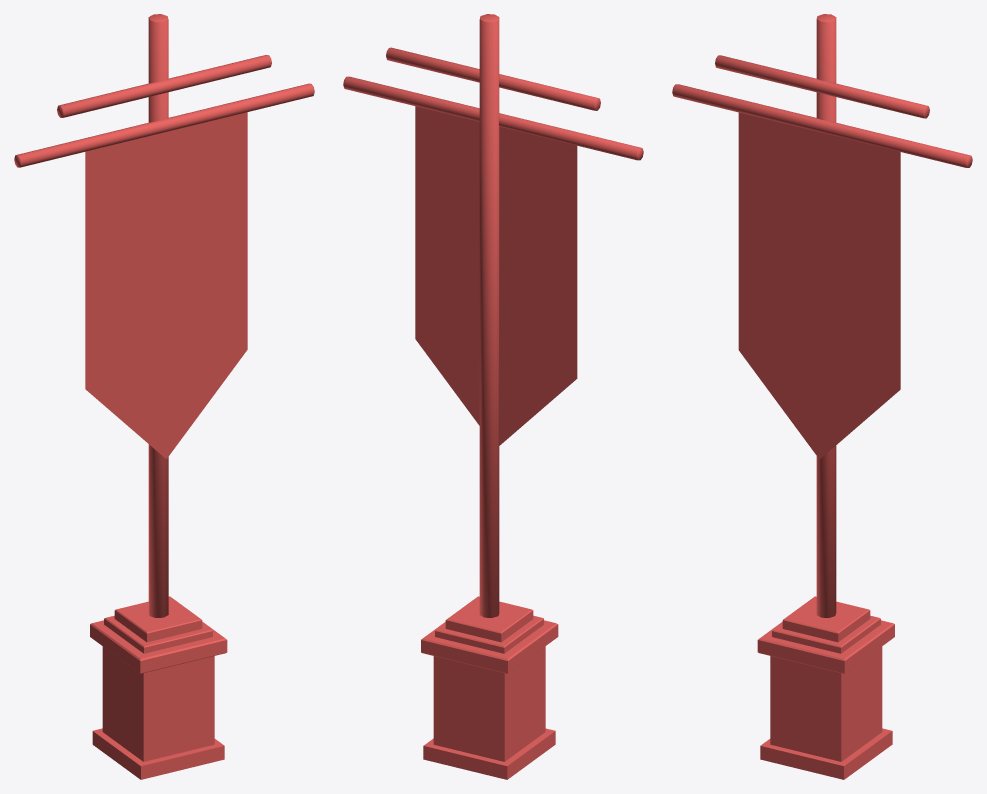
File: Banner_B.fbx
3 renders of one model, left to right at view 1: azimuth 30°, elevation 25°; view 2: azimuth 150°, elevation 25°; view 3: azimuth 330°, elevation 25°, orthographic.
Parts seen in each view (by area): view 1: LP_Base; view 2: LP_Base; view 3: LP_Base.
Part boxes in pixels (x1=…): LP_Base: x1=14, y1=14, x2=314, y2=779; LP_Base: x1=343, y1=14, x2=643, y2=779; LP_Base: x1=672, y1=14, x2=972, y2=779.
Size of the model in its own units: 237 by 565 by 70.16.
